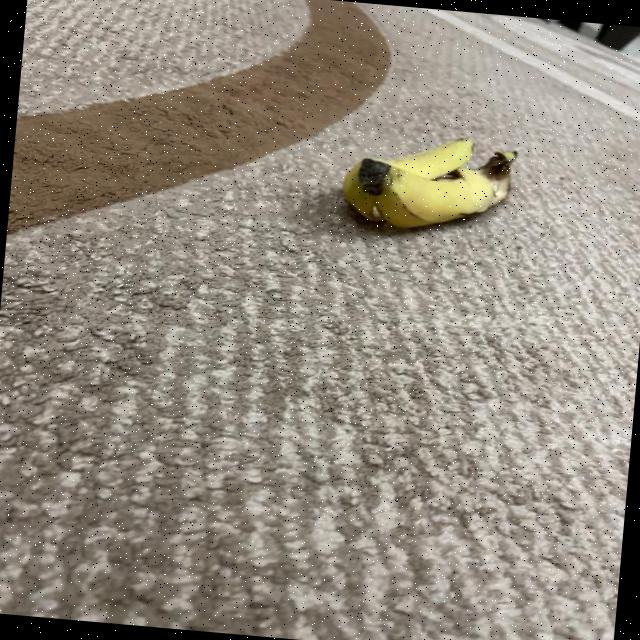banana-peel: (338, 124, 518, 238)
